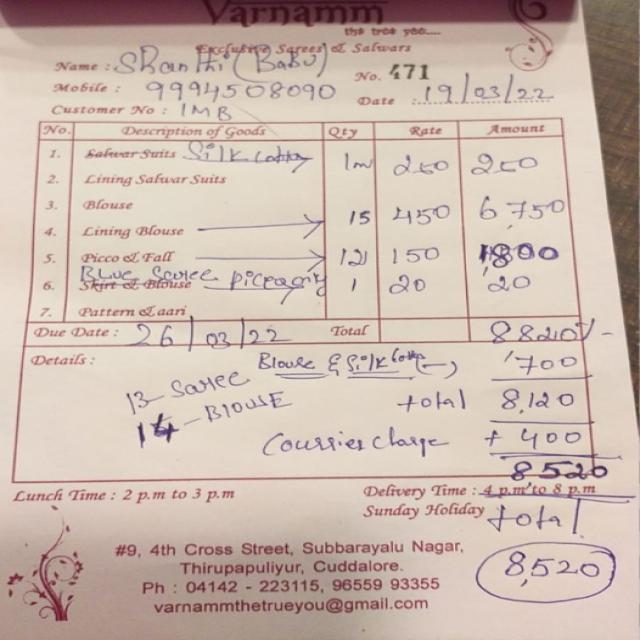address: (101, 531, 477, 627)
date: (353, 75, 568, 124), (19, 323, 314, 350)
items: (30, 118, 576, 321)
shop: (92, 0, 490, 37)
tax: (24, 351, 640, 629)
tot: (323, 321, 625, 346)
